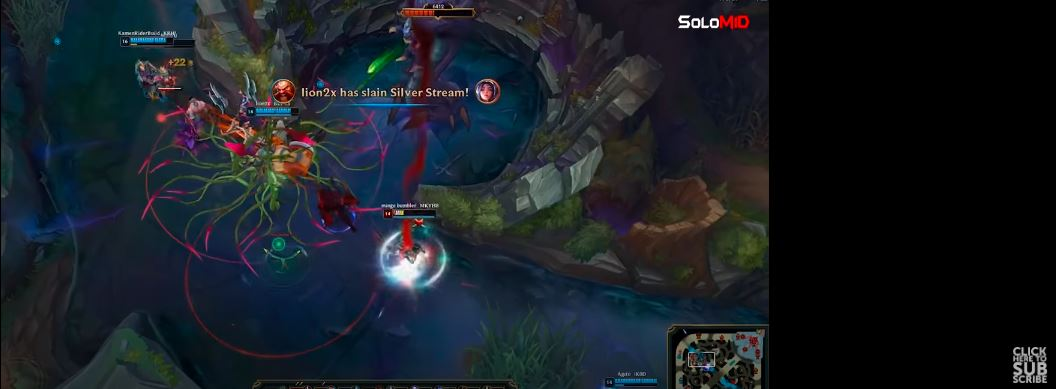bar: (244, 101, 301, 119), (134, 35, 200, 50), (382, 206, 441, 220), (118, 34, 178, 45)
